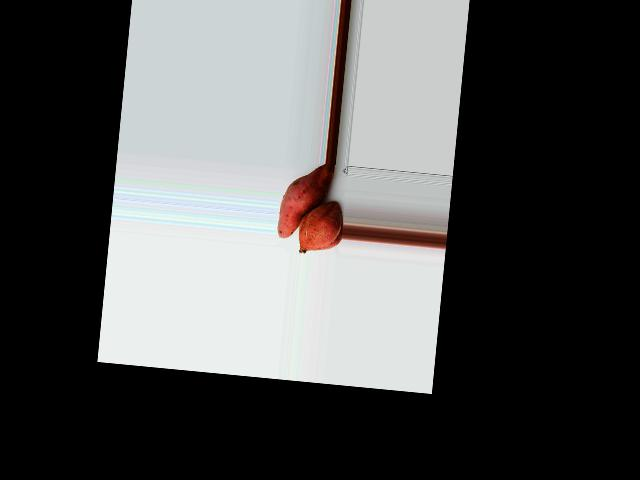sweet_potato: (300, 201, 339, 257)
